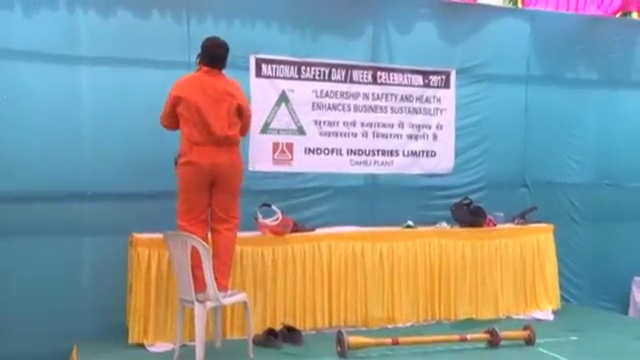helmet_off: (196, 36, 233, 74)
person: (152, 36, 253, 302)
